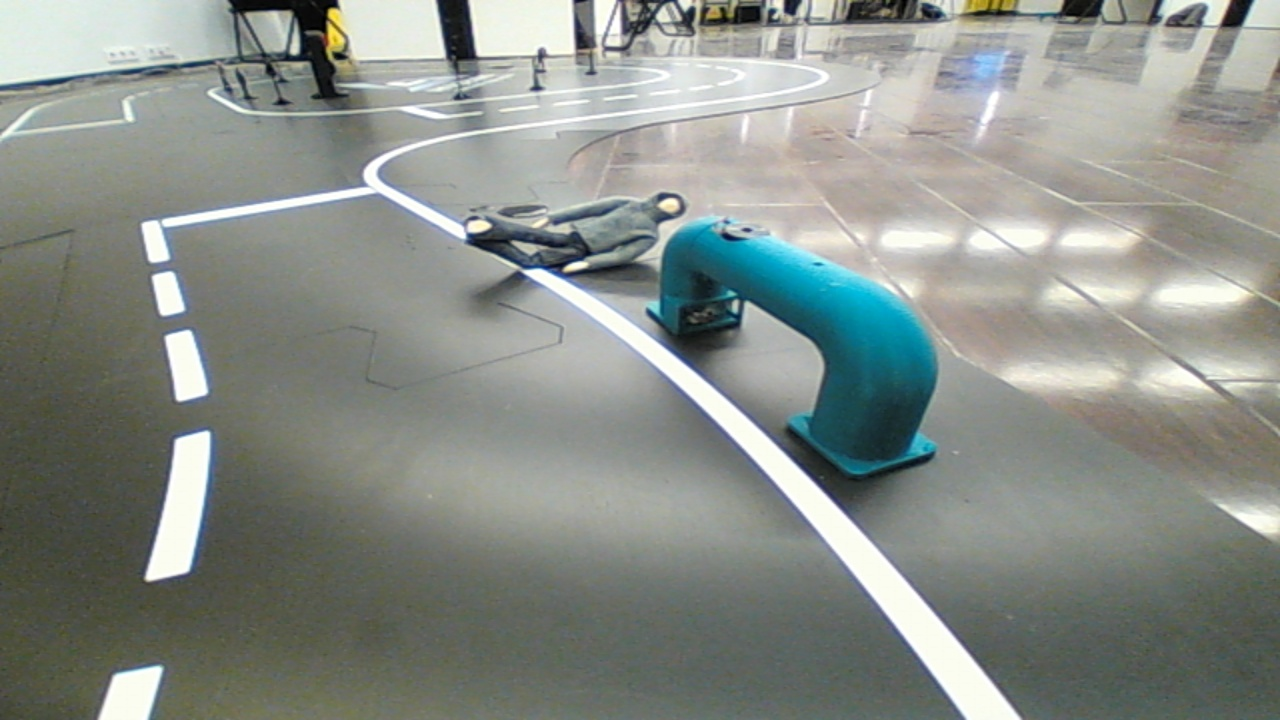Pedestrian crossing: (652, 192, 960, 494)
Road works: (448, 188, 689, 281)
